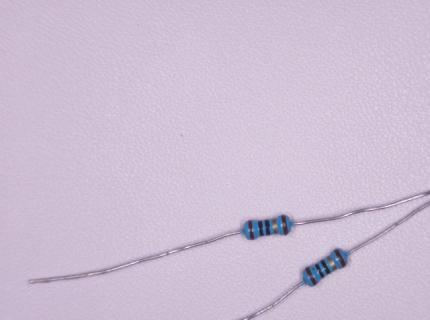Black band: (320, 259, 331, 275), (314, 263, 325, 278), (258, 220, 264, 236), (265, 220, 270, 235)
Brown band: (334, 249, 347, 268), (305, 267, 317, 286), (281, 215, 288, 235), (248, 220, 255, 240)
Gold band: (326, 255, 338, 271), (272, 218, 278, 234)
